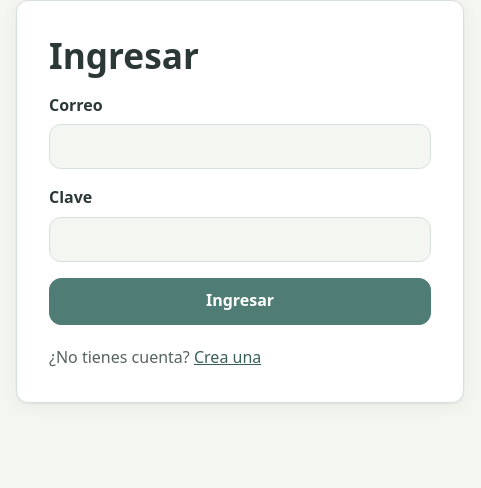
con credenciales incorrectas muestra el mensaje del backend
Type "ana@test.local" into the field labelled "Correo".
click(240, 147); type("ana@test.local")  # box [49,124,431,169]
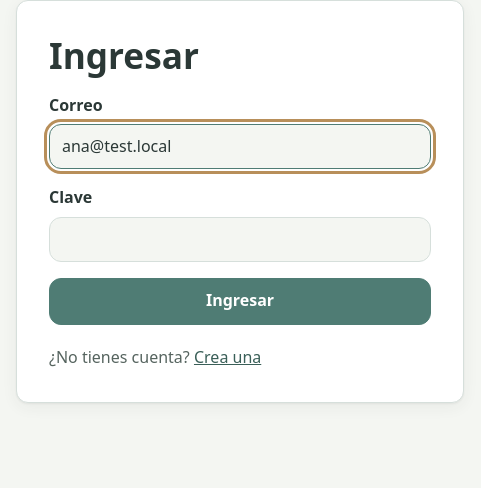
Type "Mala!" into the password field labelled "Clave".
click(240, 239); type("Mala!")  # box [49,217,431,262]
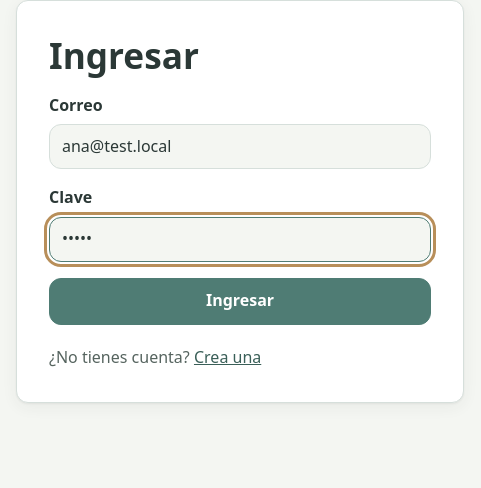
Click the button "Ingresar".
click(240, 301)  # box [49,278,431,325]
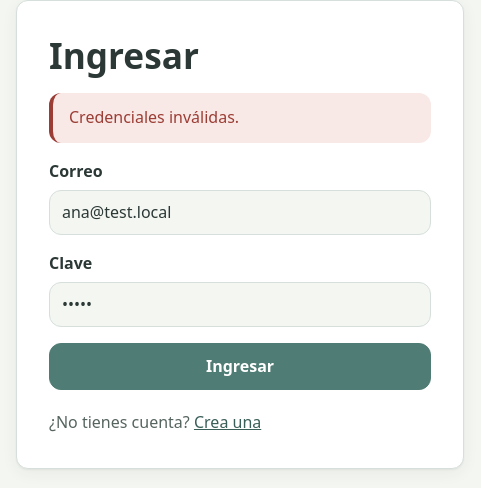
Check: the message reads "Credenciales inválidas.", box [69,106,239,128]
